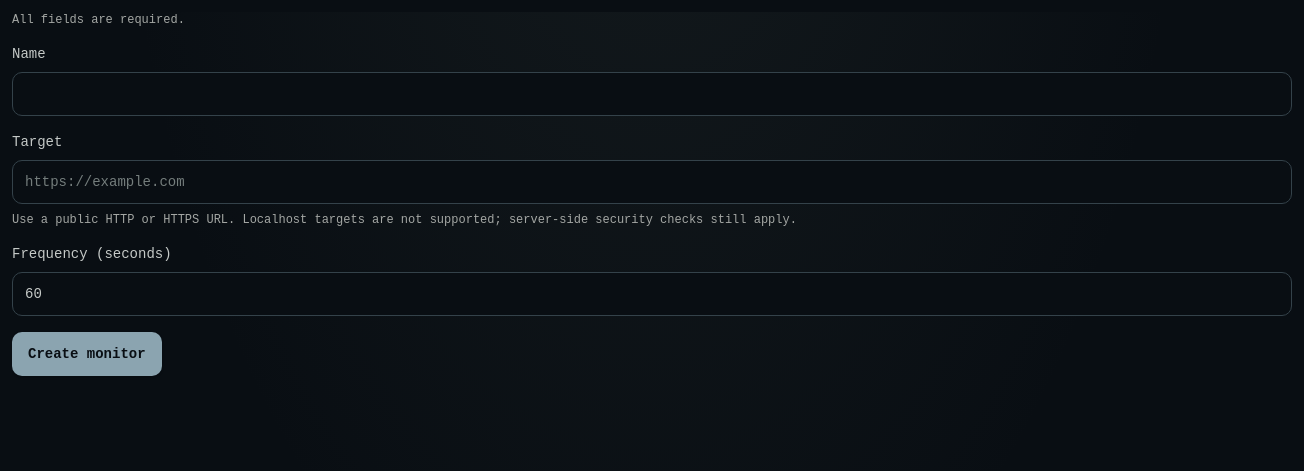
Scenario: CreateMonitorForm › maps a string detail to a form-level message
In the field labelled "Name": coordinates (652, 94) x1=12 y1=72 x2=1292 y2=116, type "x"
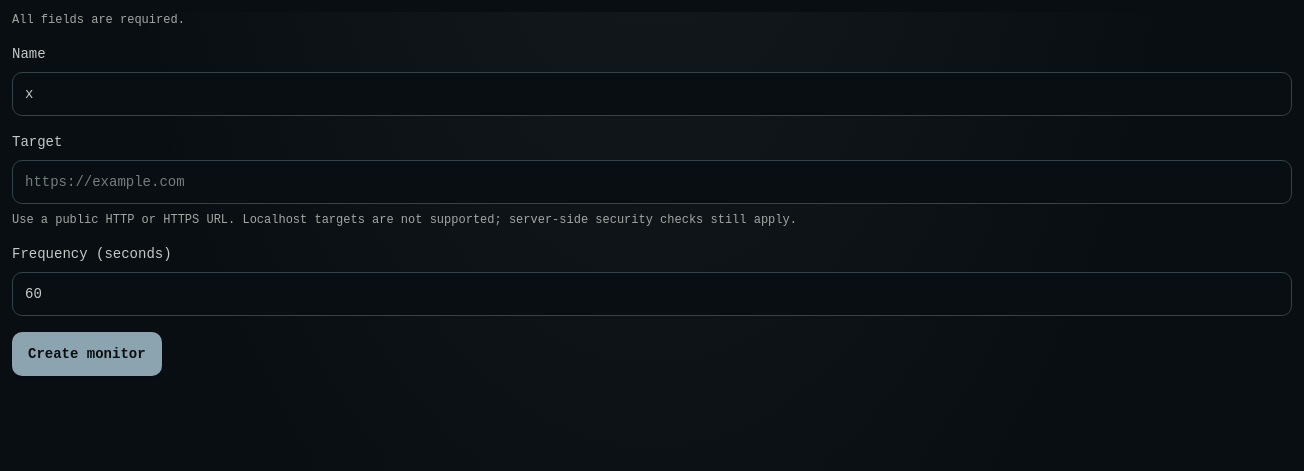
In the field labelled "Target": coordinates (652, 182) x1=12 y1=160 x2=1292 y2=204, type "https://ok.example.com"
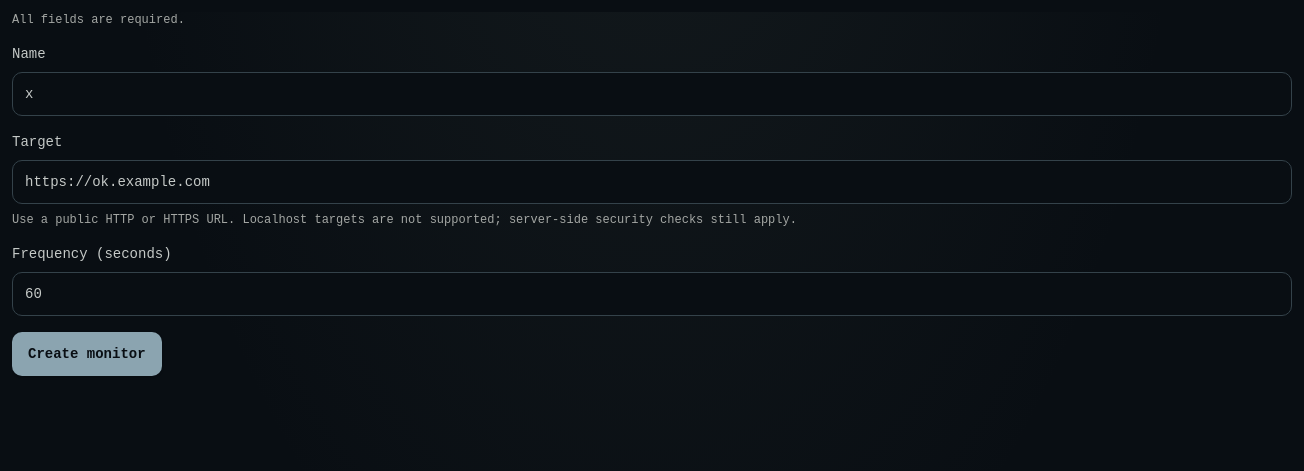
Click the button "Create monitor": coordinates (87, 354) x1=12 y1=332 x2=162 y2=376
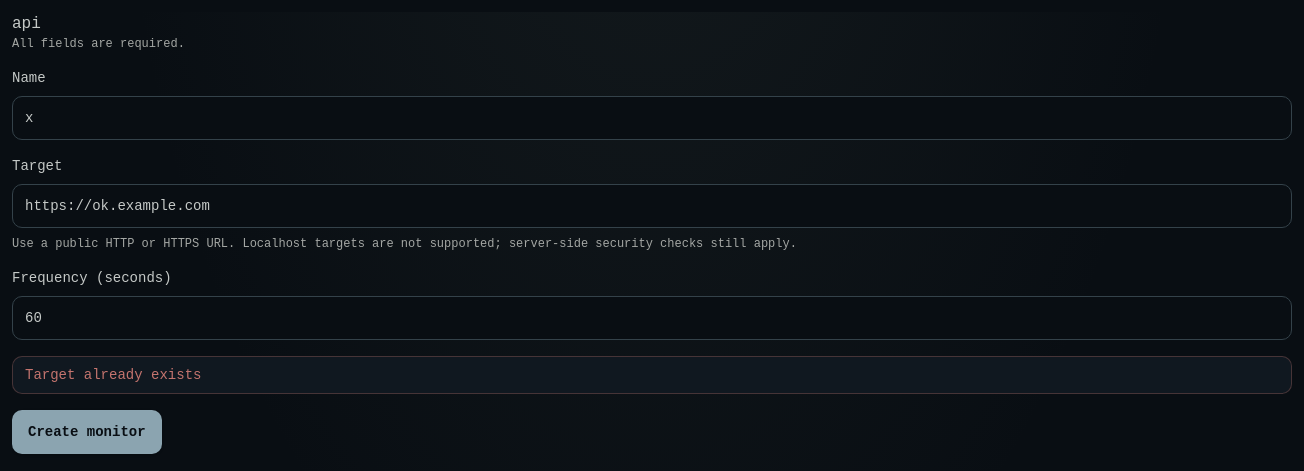
Now the message reads "Target already exists", box x1=25 y1=367 x2=201 y2=383
